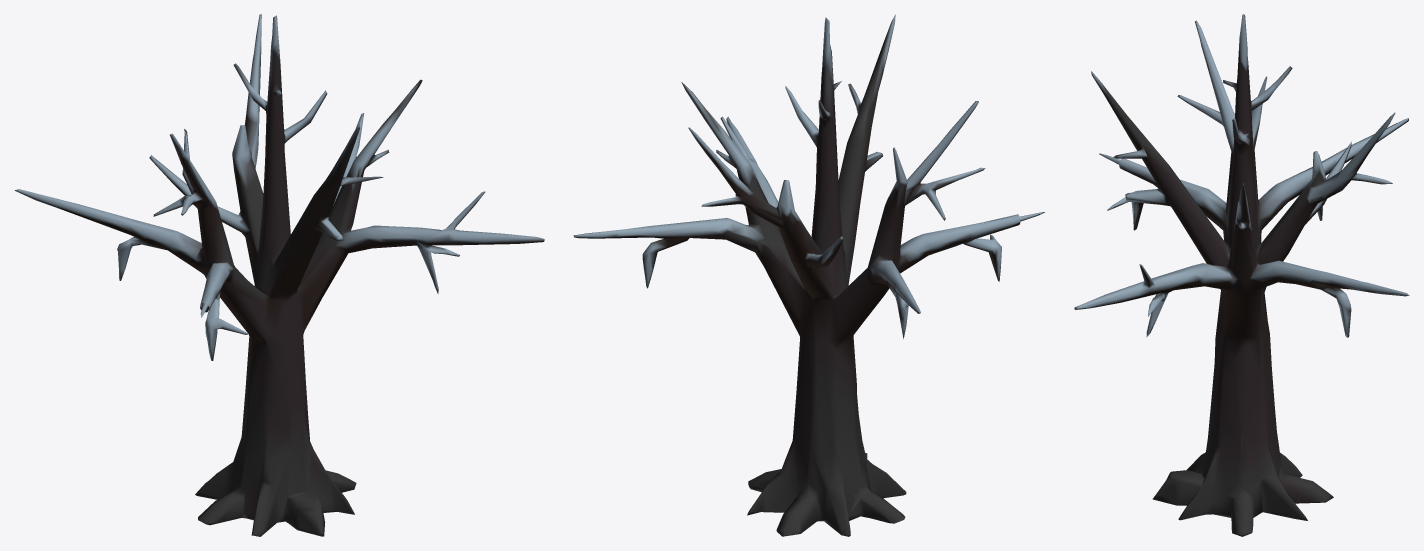
Rendered from gen3d-frozen-dead-tree-lod0.glb.
3 views of the same model, side by side, from view 1: azimuth 30°, elevation 25°; view 2: azimuth 150°, elevation 25°; view 3: azimuth 270°, elevation 25° (orthographic).
Parts seen in each view (by area): view 1: part_0; view 2: part_0; view 3: part_0.
Boxes of the visible parts, x1,y1,x2,y2 form: part_0: [14, 14, 544, 536]; part_0: [573, 14, 1044, 536]; part_0: [1074, 14, 1409, 536].
Size of the model in its own units: 0.7752 by 0.999 by 0.6253.
